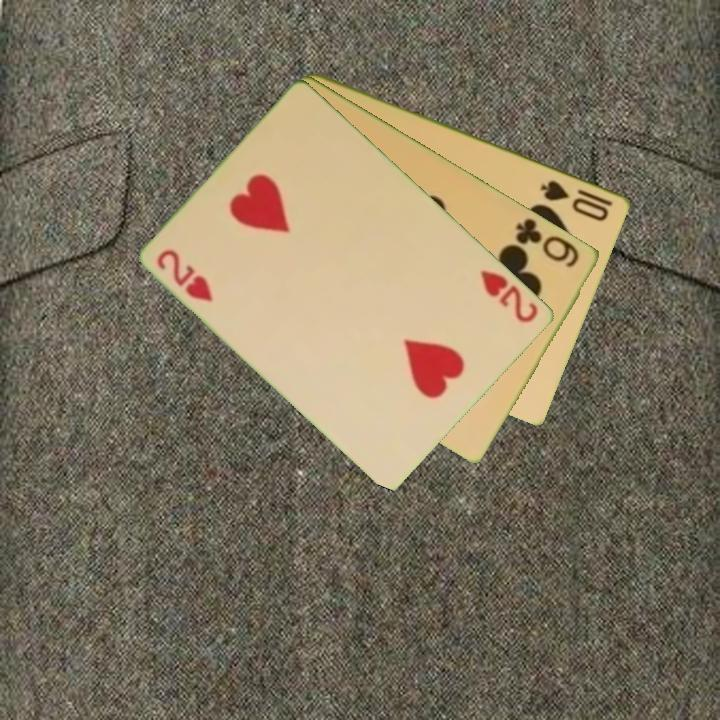10s: (537, 176, 612, 224)
2h: (477, 266, 542, 326), (154, 246, 217, 305)
6c: (512, 214, 583, 270)
